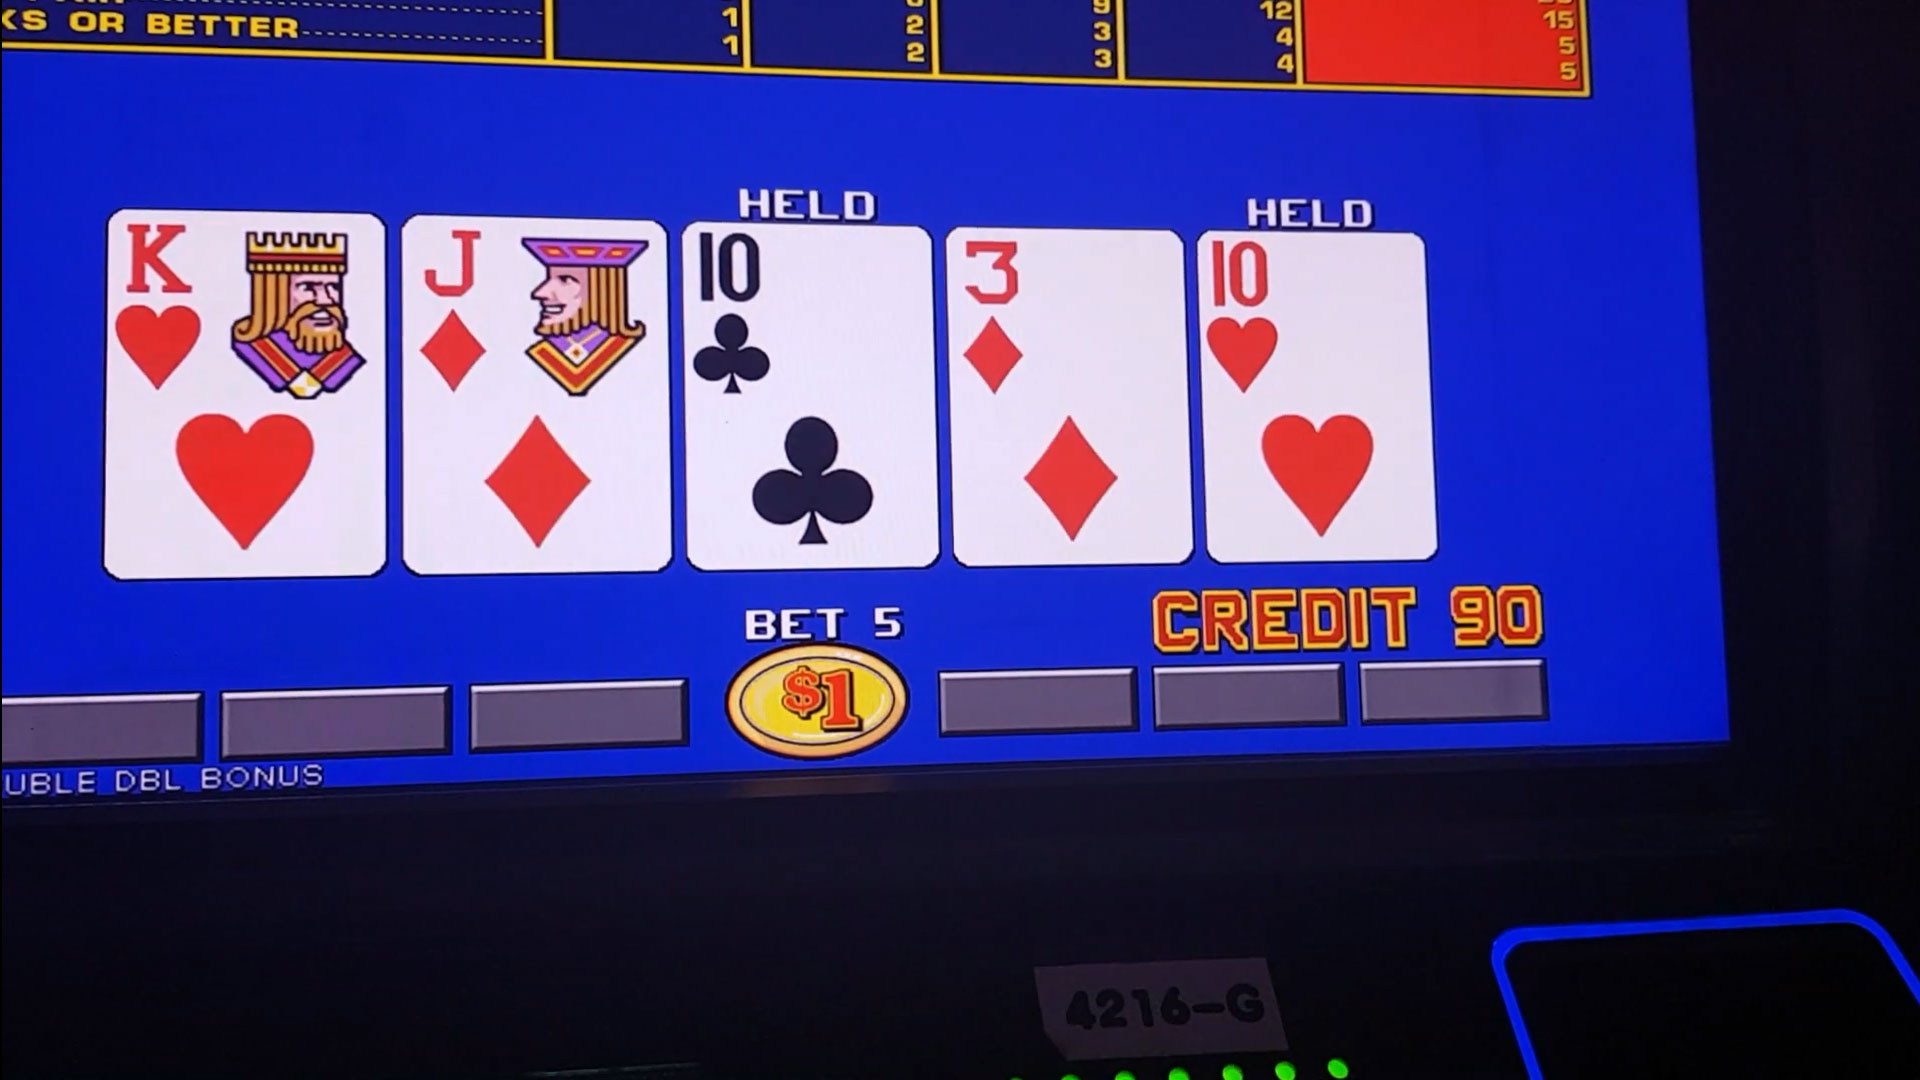CT: (687, 231, 928, 402)
D3: (949, 239, 1179, 407)
DJ: (405, 224, 663, 404)
HK: (115, 215, 382, 394)
HT: (1205, 243, 1424, 400)
